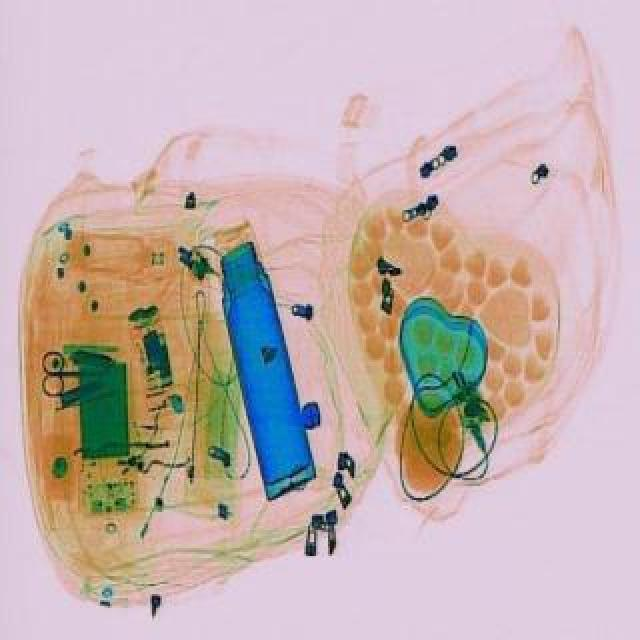pliers: (38, 348, 102, 392)
